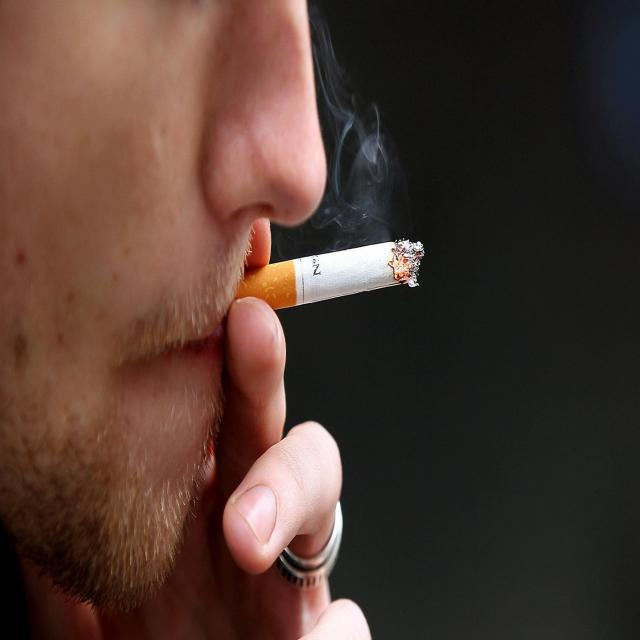cigarette: (270, 220, 432, 320)
